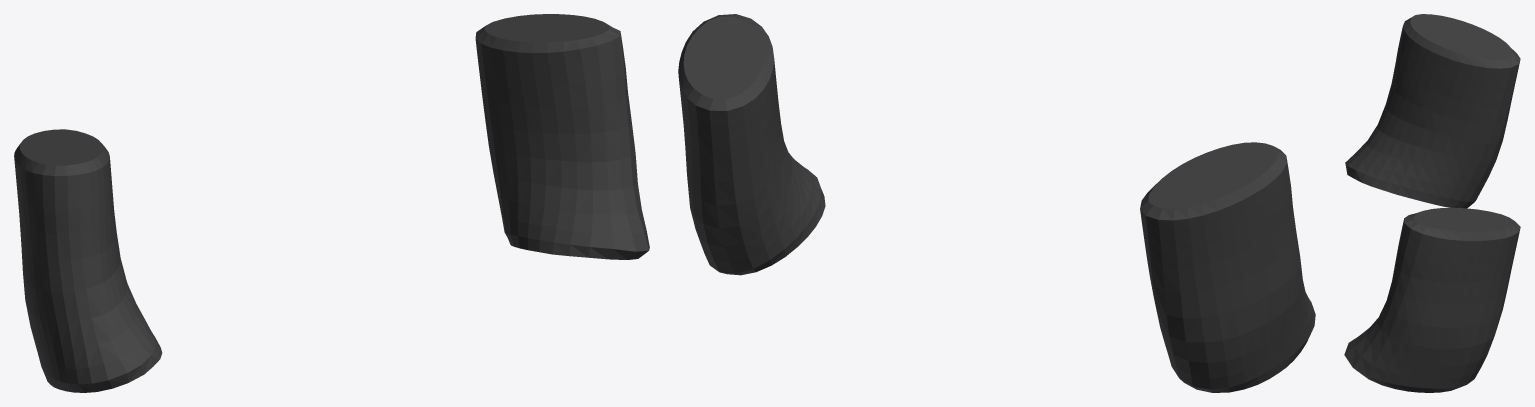
File: Peduncles_caudal_low_Peduncles_caudal_low.glb
3 views of the same model, side by side, from view 1: azimuth 30°, elevation 25°; view 2: azimuth 150°, elevation 25°; view 3: azimuth 270°, elevation 25° (orthographic). The views are drawn at different scales.
Parts seen in each view (by area): view 1: Peduncles_caudal_low_Peduncles_caudal_low; view 2: Peduncles_caudal_low_Peduncles_caudal_low; view 3: Peduncles_caudal_low_Peduncles_caudal_low.
Boxes of the visible parts, box(x1,y1,x2,y2) form: Peduncles_caudal_low_Peduncles_caudal_low: box(14, 14, 649, 392); Peduncles_caudal_low_Peduncles_caudal_low: box(678, 14, 1315, 392); Peduncles_caudal_low_Peduncles_caudal_low: box(1344, 14, 1520, 392).
Size of the model in its own units: 19.01 by 7.01 by 6.41.
Materials: 1 (1 with a texture image).
